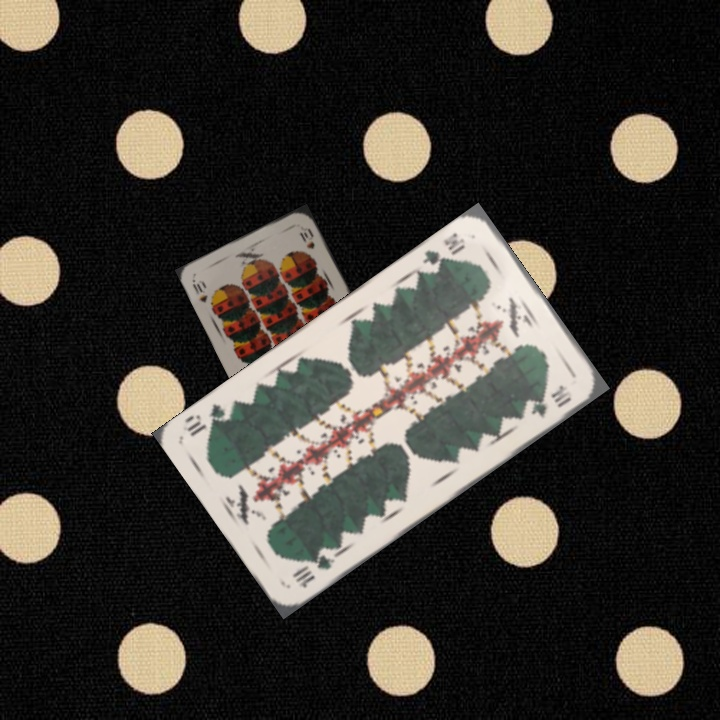G10: (288, 548, 341, 591), (418, 228, 469, 271)
S10: (188, 276, 210, 305)
